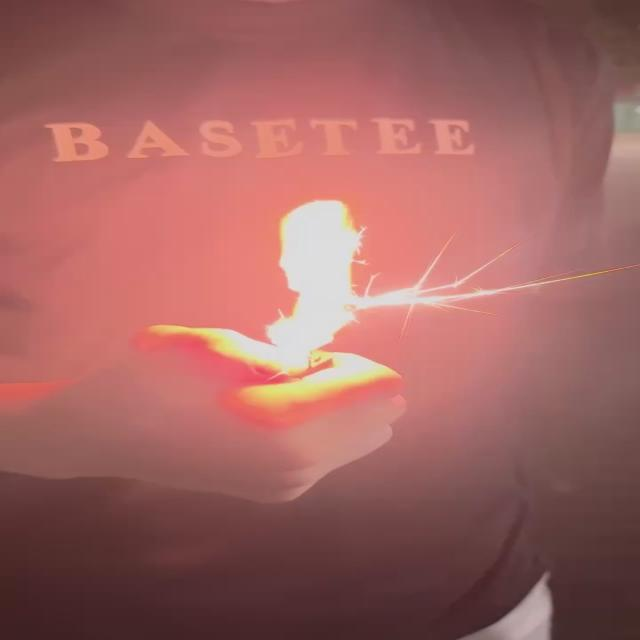Fire: (277, 200, 458, 361)
